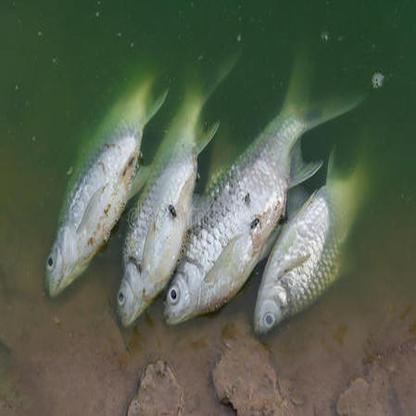deceased fish: (163, 54, 364, 323), (114, 39, 220, 329), (43, 68, 166, 302), (252, 146, 380, 334)
